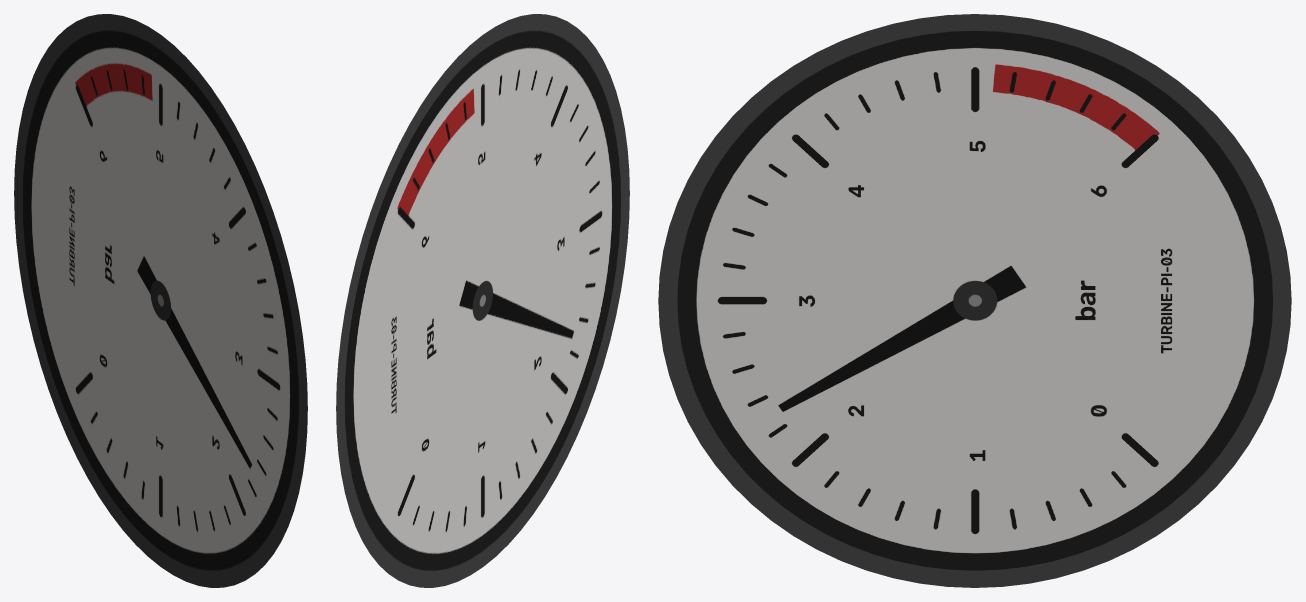
The model's file is dial.obj.
3 views of the same model, side by side, from view 1: azimuth 30°, elevation 25°; view 2: azimuth 150°, elevation 25°; view 3: azimuth 270°, elevation 25° (orthographic). The views are drawn at different scales.
Visible parts, largest first — view 1: gauge_g03_dial; view 2: gauge_g03_dial; view 3: gauge_g03_dial.
Boxes of the visible parts, x1,y1,x2,y2 form: gauge_g03_dial: (14, 14, 307, 587); gauge_g03_dial: (336, 14, 629, 587); gauge_g03_dial: (658, 14, 1291, 587).
Size of the model in its own units: 0 by 0.3 by 0.3.
Materials: 1 (1 with a texture image).
